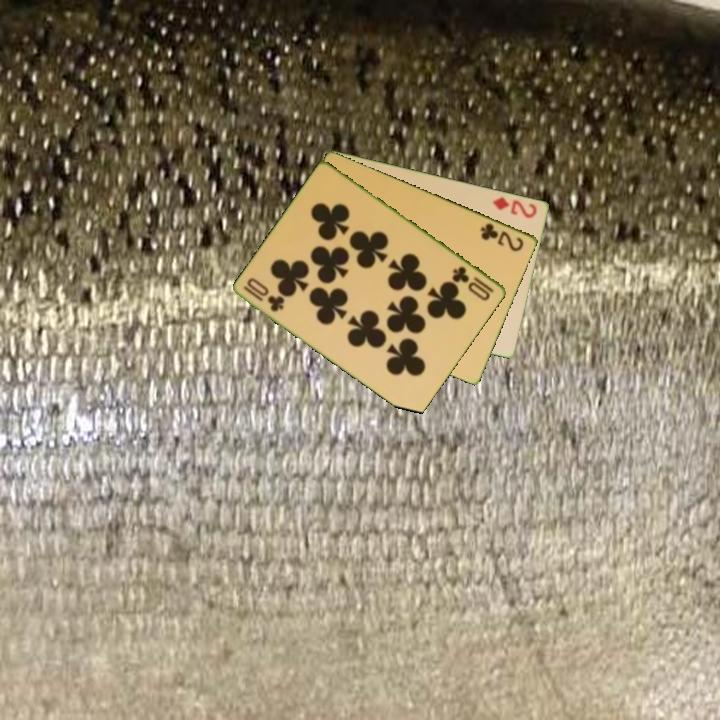10c: (449, 262, 498, 303), (240, 282, 288, 315)
2c: (477, 219, 527, 254)
2d: (489, 193, 540, 221)
